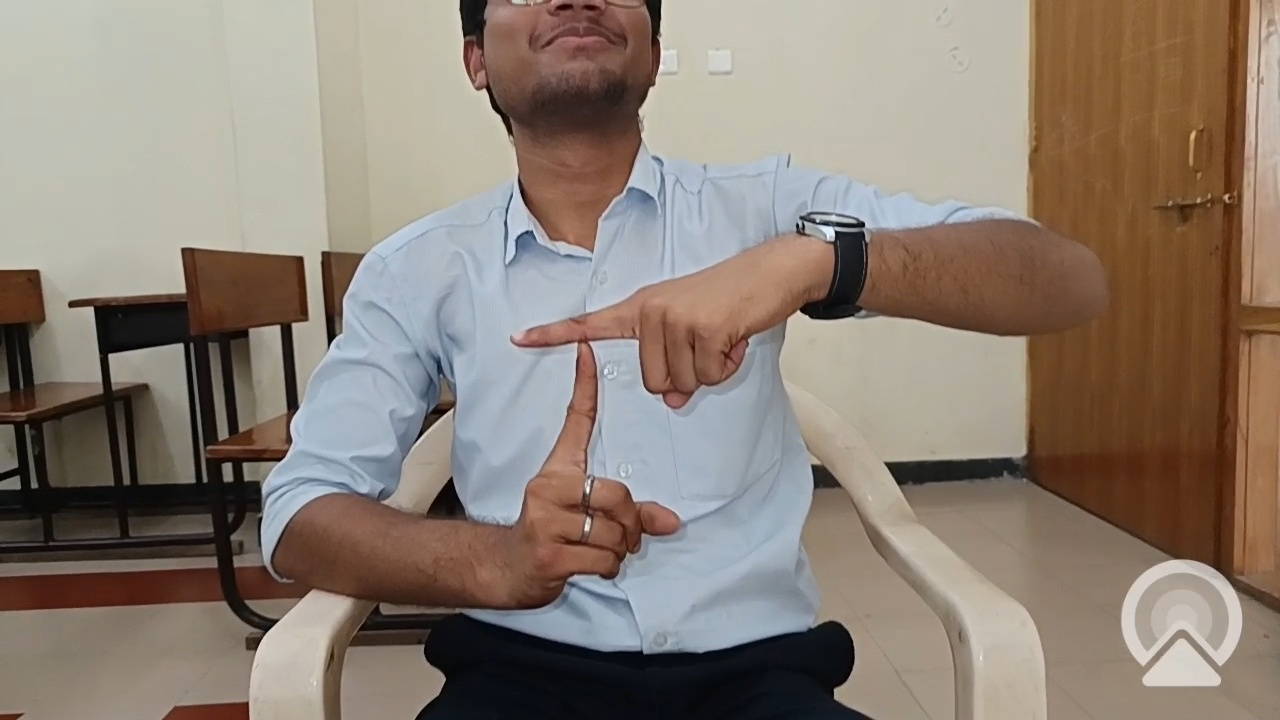T: (489, 225, 802, 613)
